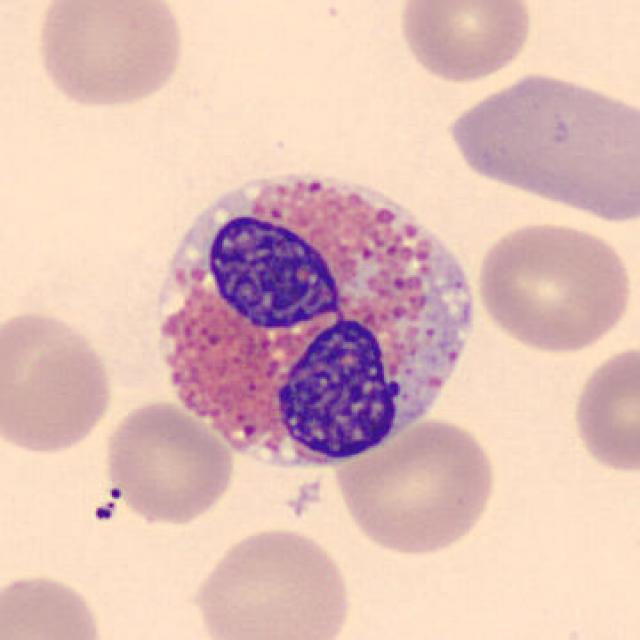Eosinophil: (135, 144, 487, 488)
RBC: (441, 69, 636, 224), (331, 414, 501, 559), (471, 215, 635, 356), (187, 522, 356, 640), (98, 397, 238, 527), (0, 305, 117, 460), (30, 0, 188, 113), (395, 0, 537, 85), (567, 340, 638, 478), (0, 567, 108, 640)
